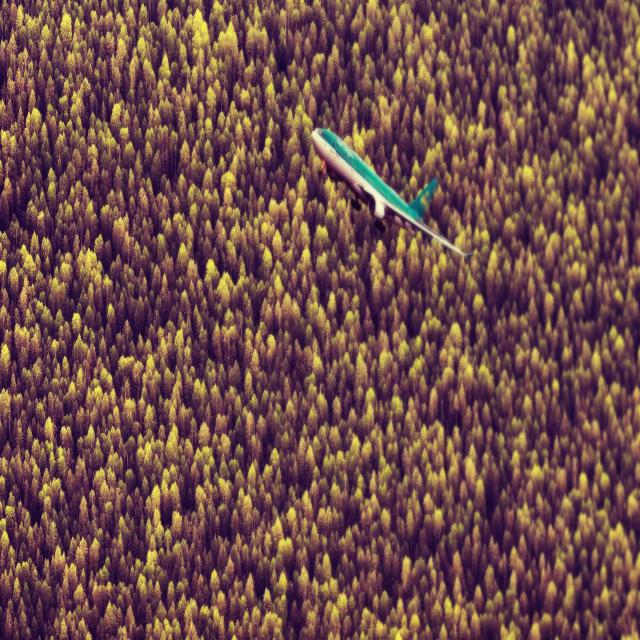airplane: (311, 126, 474, 259)
